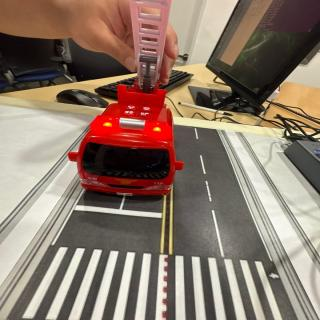Fire_truck: (68, 84, 184, 195)
